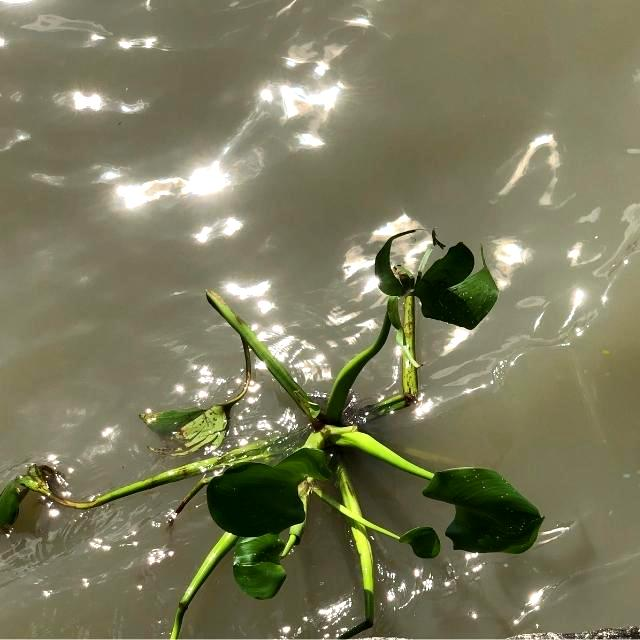water-hyacinth: (5, 220, 586, 640)
